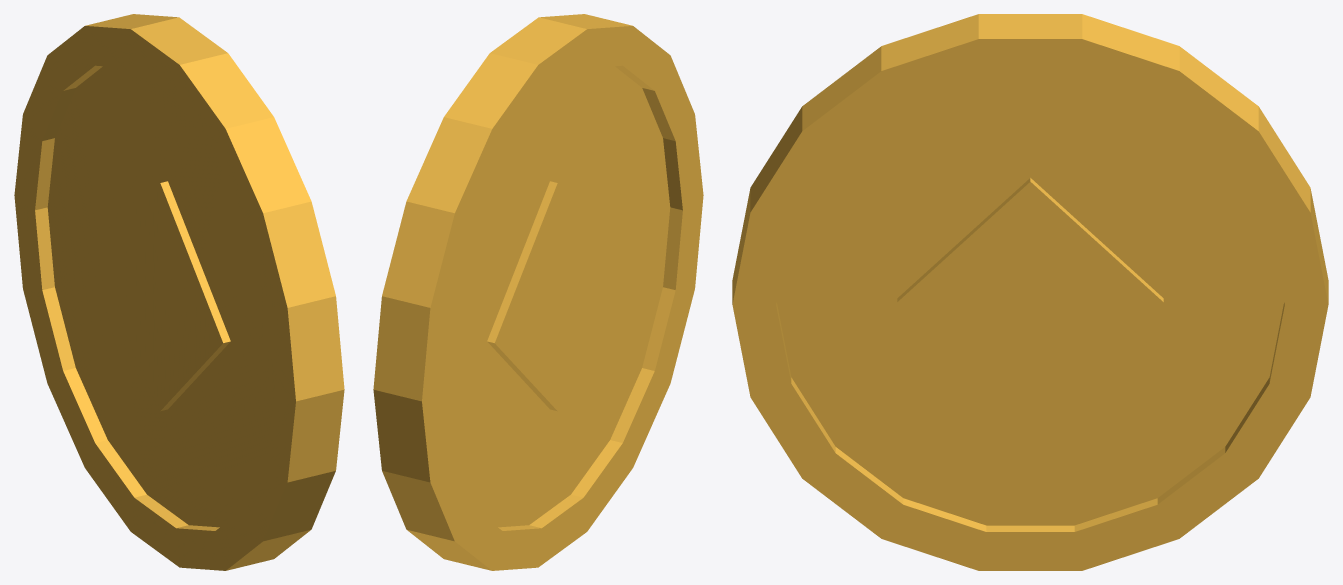
The model's file is coin_mesh.glb.
3 renders of one model, left to right at view 1: azimuth 30°, elevation 25°; view 2: azimuth 150°, elevation 25°; view 3: azimuth 270°, elevation 25°, orthographic. The views are drawn at different scales.
Parts seen in each view (by area): view 1: Cylinder; view 2: Cylinder; view 3: Cylinder.
Part boxes in pixels (x1=…): Cylinder: x1=14, y1=14, x2=344, y2=570; Cylinder: x1=373, y1=14, x2=703, y2=570; Cylinder: x1=732, y1=14, x2=1328, y2=570.
Size of the model in its own units: 0.1988 by 1.97 by 2.
1 material, 1 textured.
